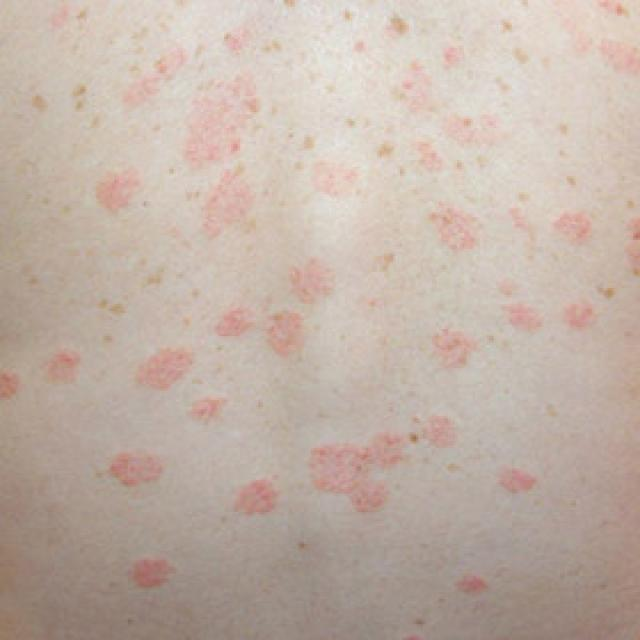Rosacea: (0, 31, 592, 596)
